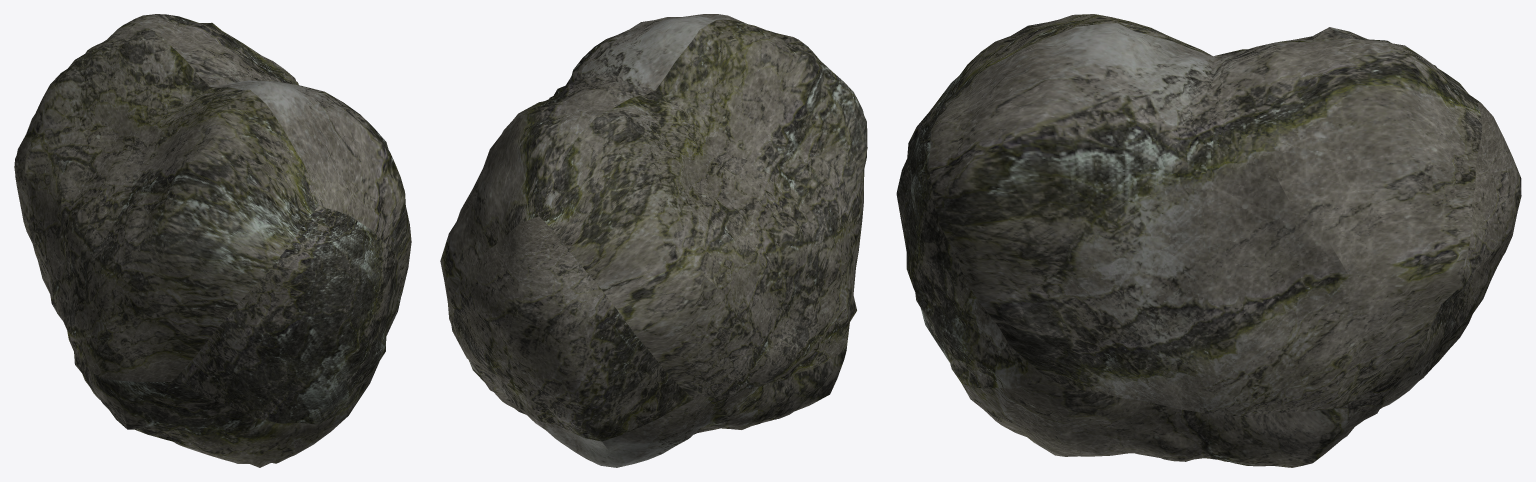
File: Rock8.fbx
The picture shows the model from 3 angles, left to right: view 1: azimuth 30°, elevation 25°; view 2: azimuth 150°, elevation 25°; view 3: azimuth 270°, elevation 25°; orthographic projection. The views are drawn at different scales.
Parts seen in each view (by area): view 1: rock.004; view 2: rock.004; view 3: rock.004.
Part boxes in pixels (x1,y1,x2,y2): rock.004: [14, 14, 411, 467]; rock.004: [440, 14, 867, 467]; rock.004: [896, 14, 1521, 467].
Size of the model in its own units: 82.76 by 100 by 129.
